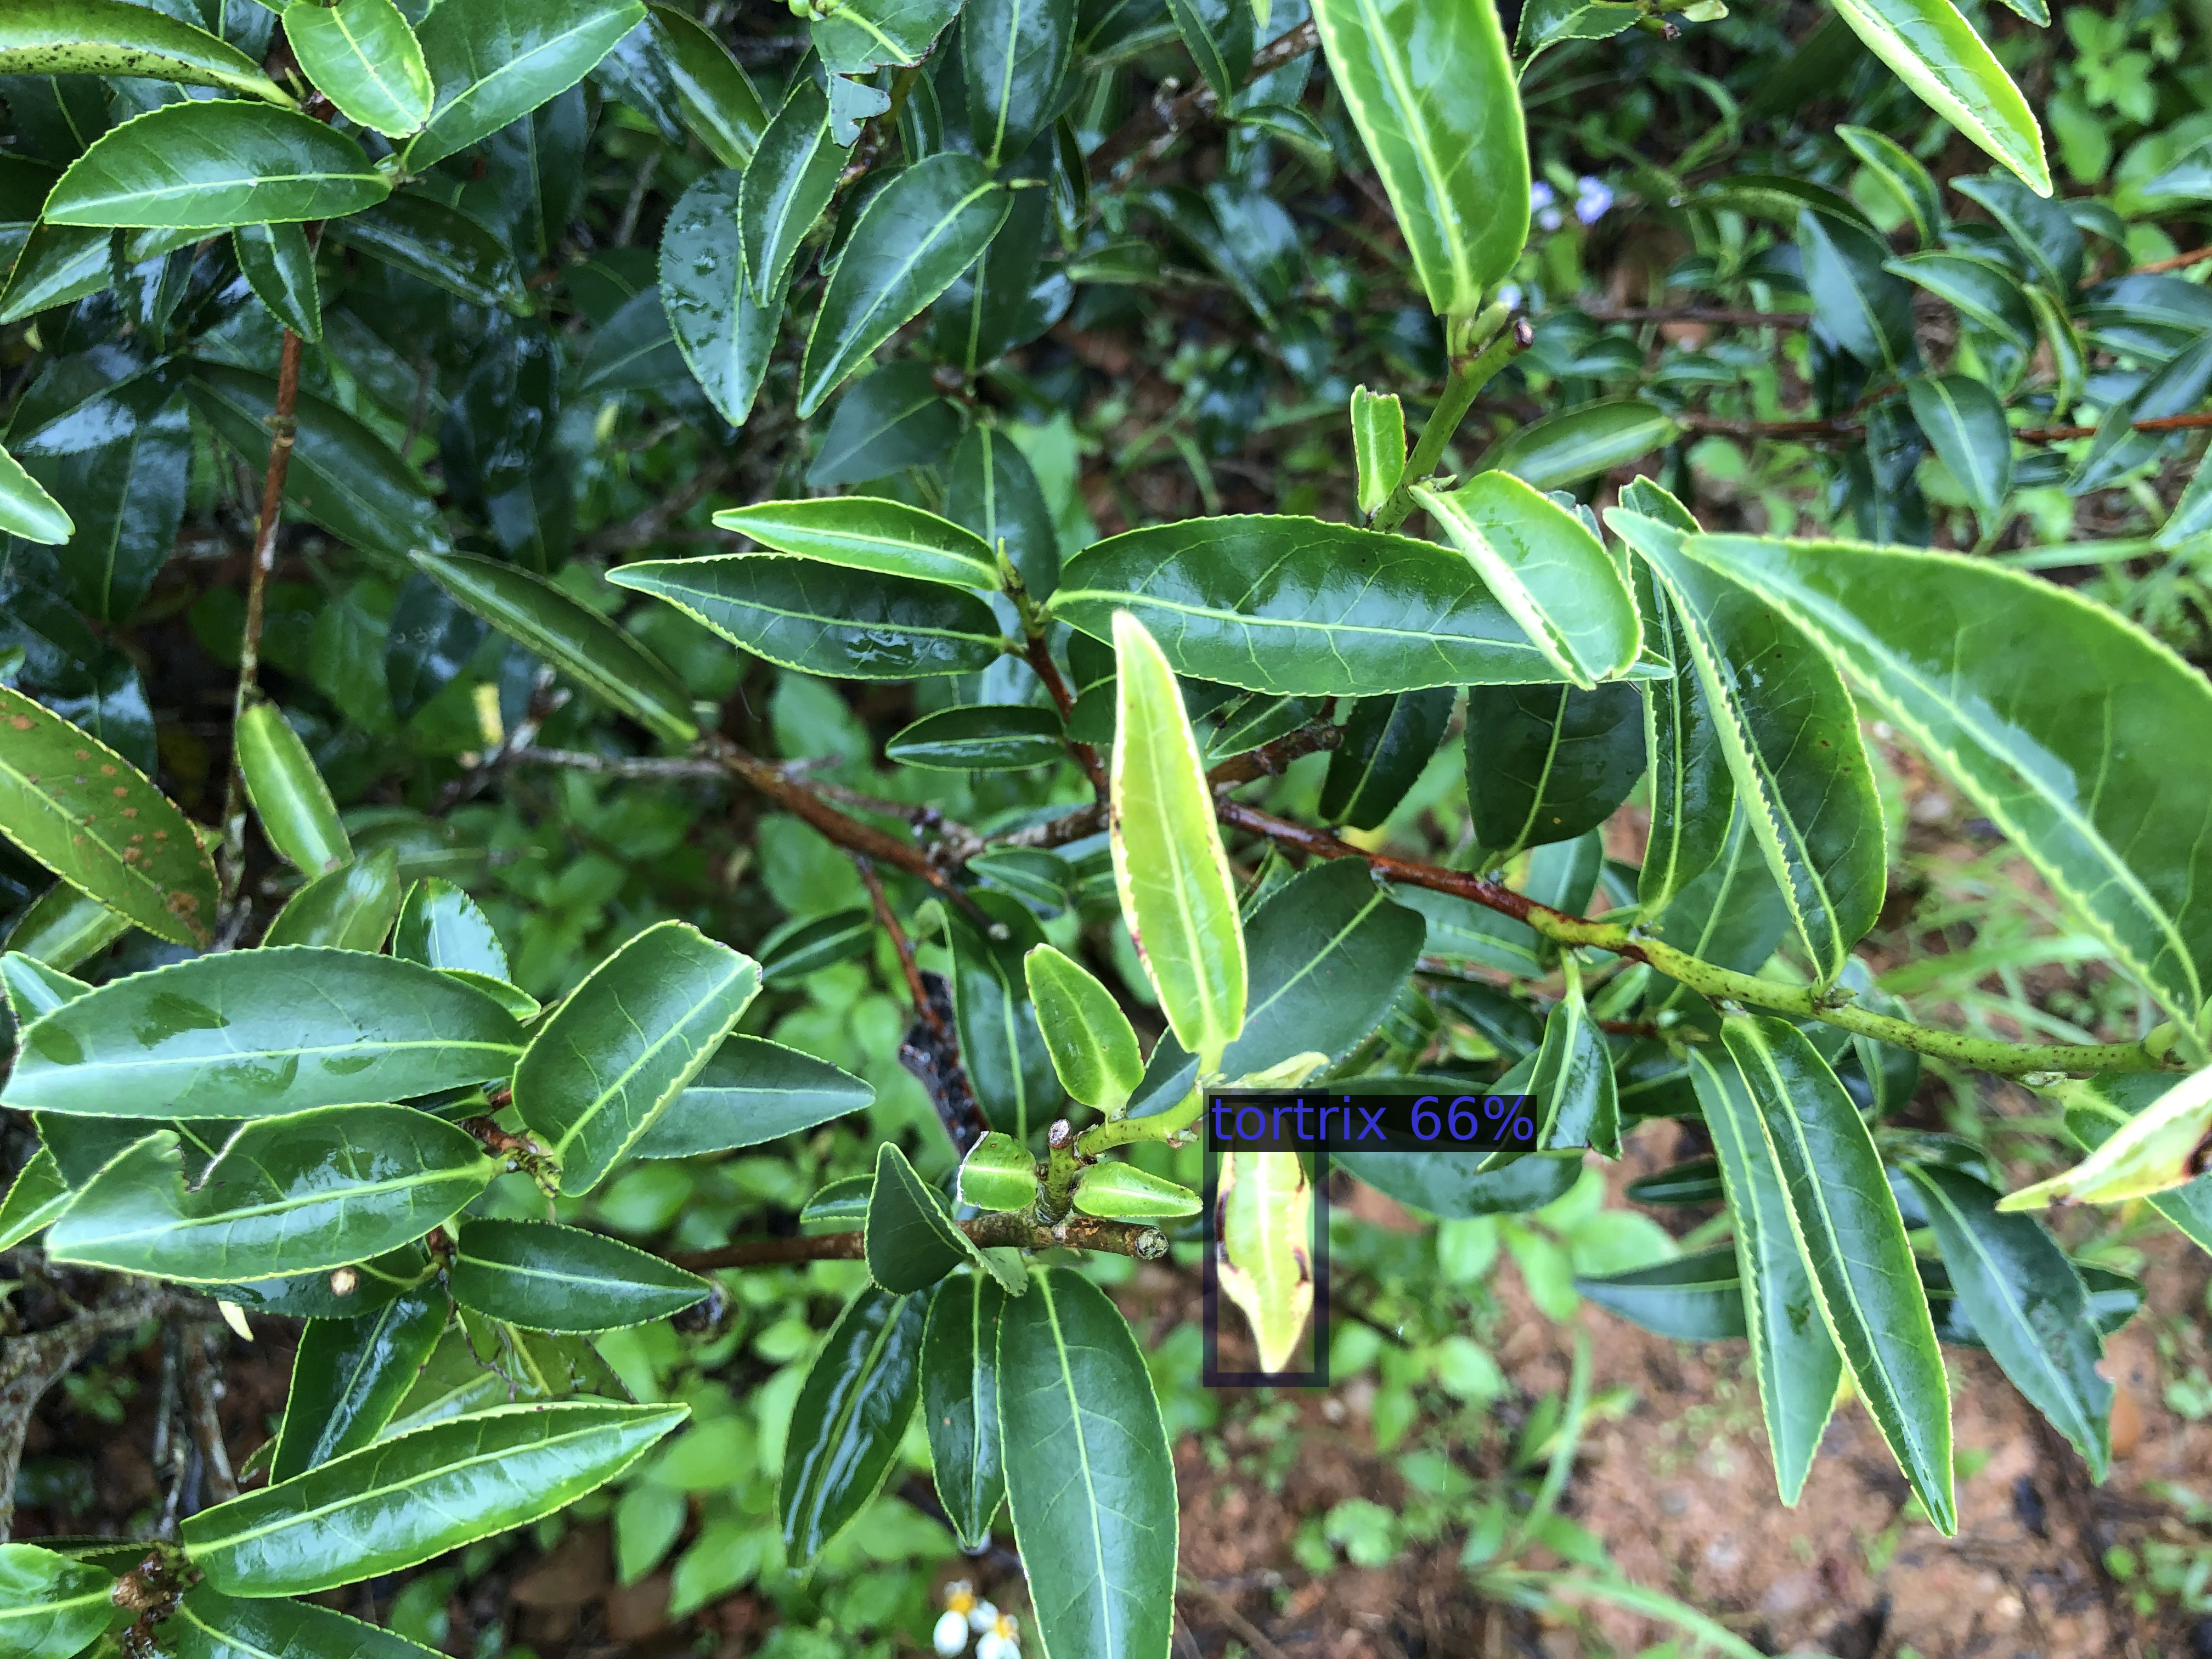tortrix: (1211, 1094, 1322, 1380)
